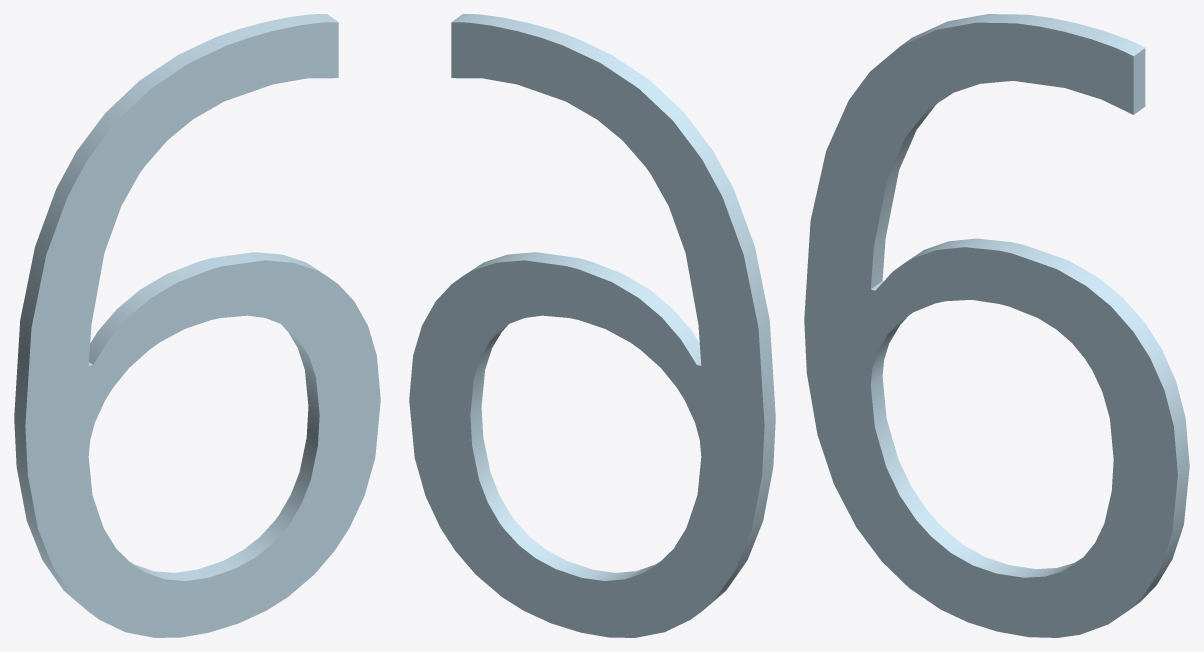
3 renders of one model, left to right at view 1: azimuth 30°, elevation 25°; view 2: azimuth 150°, elevation 25°; view 3: azimuth 330°, elevation 25°, orthographic. The views are drawn at different scales.
Parts seen in each view (by area): view 1: 6; view 2: 6; view 3: 6.
Boxes of the visible parts, x1,y1,x2,y2 form: 6: (14, 14, 380, 637); 6: (409, 14, 775, 637); 6: (804, 14, 1189, 637).
Size of the model in its own units: 0.0366 by 0.0577 by 0.002.
